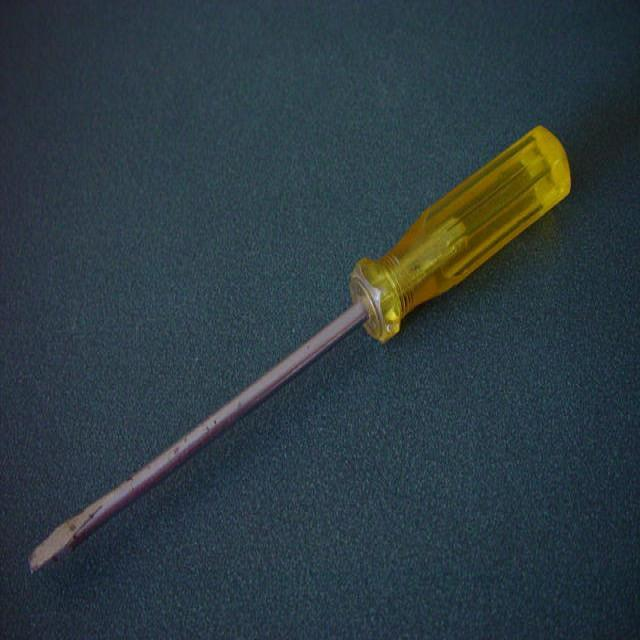screwdriver: (16, 115, 576, 586)
